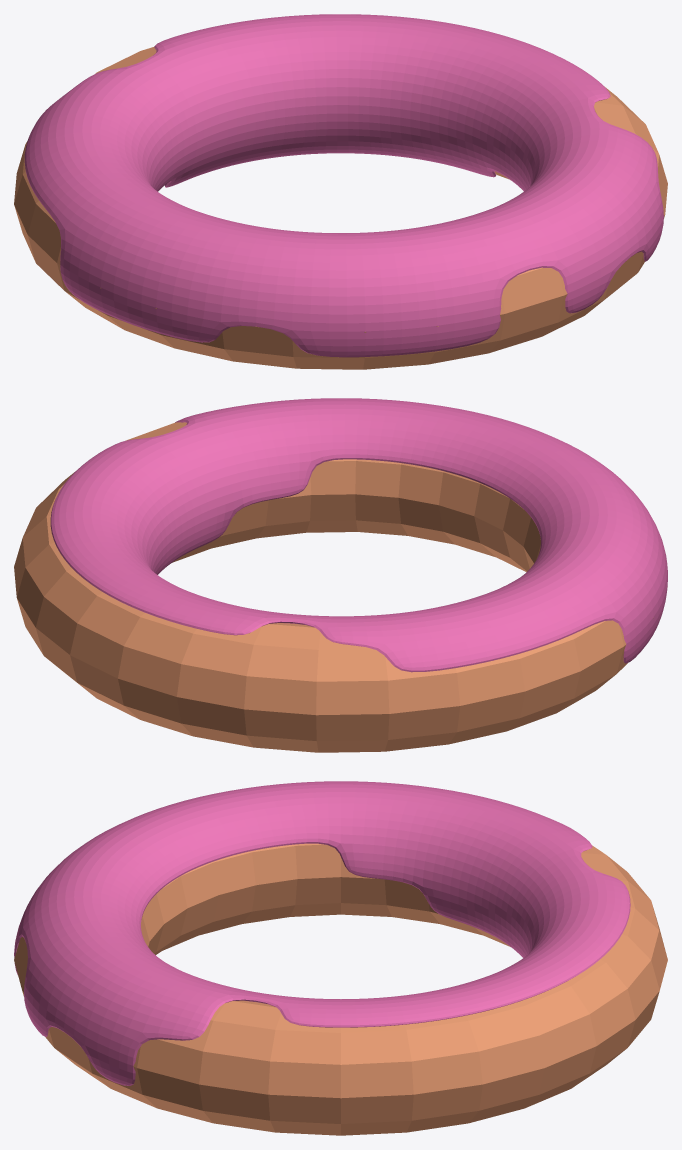
The picture shows the model from 3 angles, top to bottom: view 1: azimuth 30°, elevation 25°; view 2: azimuth 150°, elevation 25°; view 3: azimuth 270°, elevation 25°; orthographic projection.
Parts seen in each view (by area): view 1: Glassage, pateBeigne; view 2: Glassage, pateBeigne; view 3: Glassage, pateBeigne.
Boxes of the visible parts, left/top/right/bottom form: Glassage: left=24, top=14, right=663, bottom=357; pateBeigne: left=14, top=47, right=667, bottom=369; Glassage: left=50, top=398, right=667, bottom=672; pateBeigne: left=14, top=422, right=667, bottom=752; Glassage: left=14, top=781, right=630, bottom=1085; pateBeigne: left=14, top=843, right=667, bottom=1135.
Bounding box in the file's own units: 250 × 51.86 × 250.
